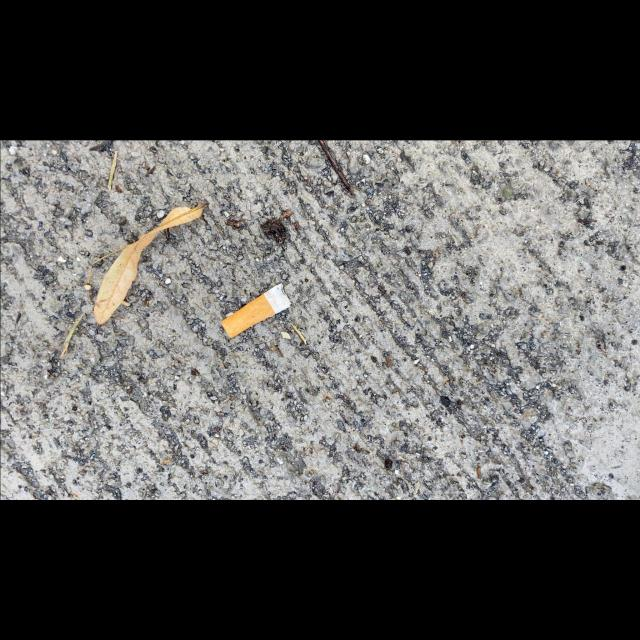cigarette: (220, 282, 292, 338)
